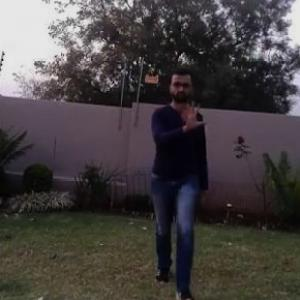follow_hand: (179, 98, 208, 132)
